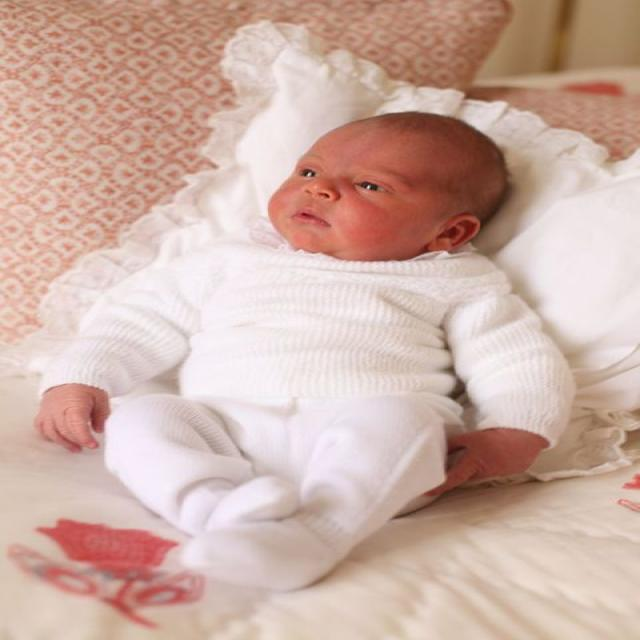non-dog: (35, 110, 577, 587)
